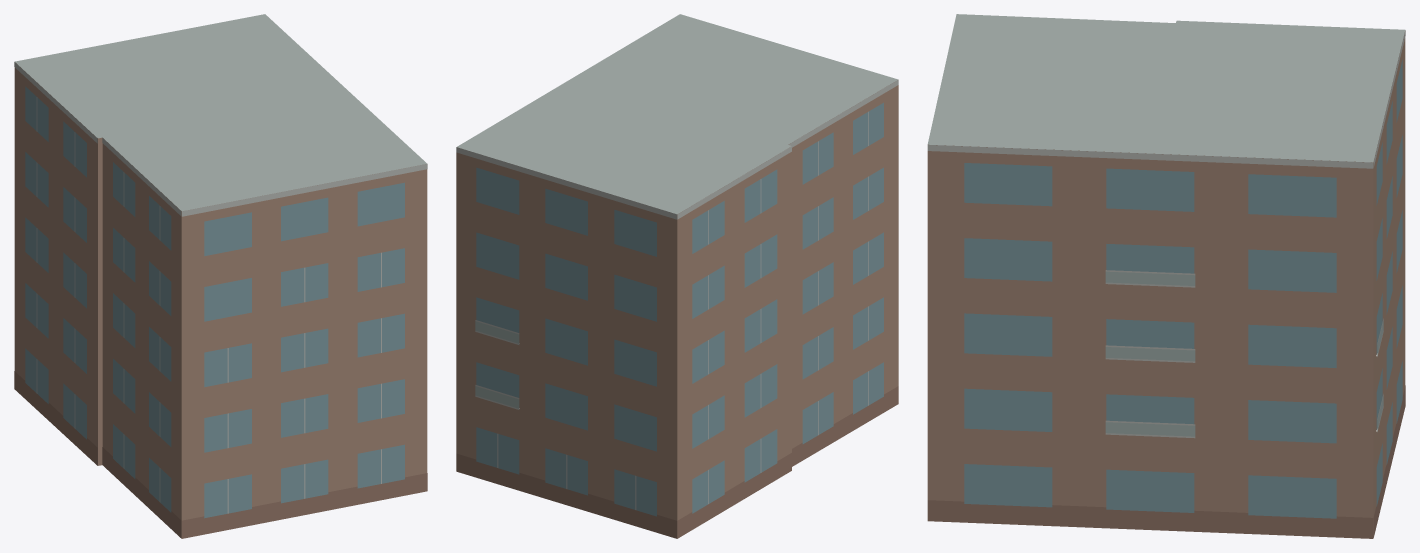
File: survey-upis-32572402.glb
3 renders of one model, left to right at view 1: azimuth 30°, elevation 25°; view 2: azimuth 150°, elevation 25°; view 3: azimuth 270°, elevation 25°, orthographic. The views are drawn at different scales.
Parts seen in each view (by area): view 1: survey-upis-32572402.tmp; view 2: survey-upis-32572402.tmp; view 3: survey-upis-32572402.tmp.
Part boxes in pixels (left/top/right/bottom): survey-upis-32572402.tmp: left=14, top=14, right=427, bottom=538; survey-upis-32572402.tmp: left=456, top=14, right=898, bottom=538; survey-upis-32572402.tmp: left=927, top=14, right=1405, bottom=538.
Bounding box in the file's own units: 12.4 × 14.65 × 16.87.
